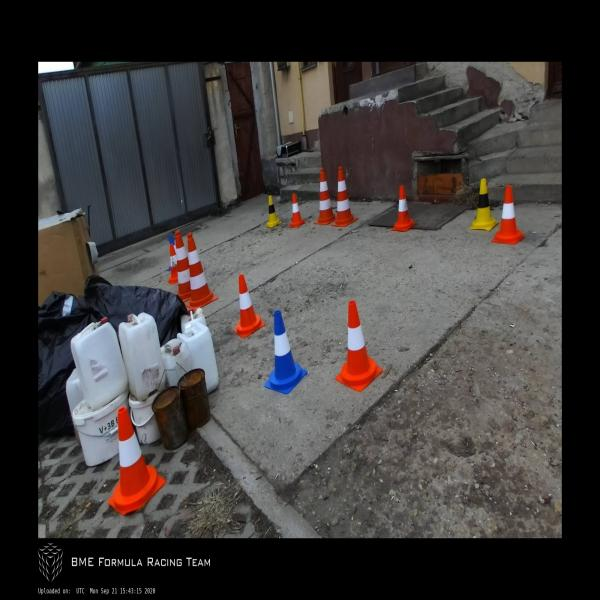blue_cone: (264, 310, 308, 394), (168, 236, 175, 271)
large_orange_cone: (185, 232, 219, 312), (332, 166, 358, 227), (174, 230, 191, 303), (314, 169, 336, 225)
orange_cone: (108, 407, 166, 515), (336, 301, 383, 391), (234, 274, 266, 338), (491, 186, 525, 244), (392, 185, 416, 231), (289, 193, 306, 228), (168, 245, 178, 284)
yellow_cone: (469, 178, 499, 231), (266, 195, 281, 228)
